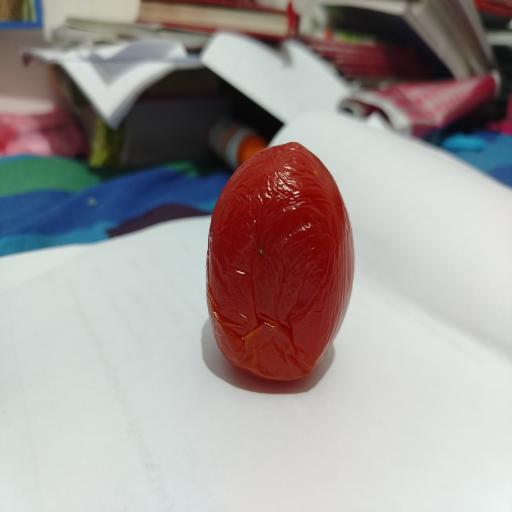spoiled: (207, 142, 354, 380)
